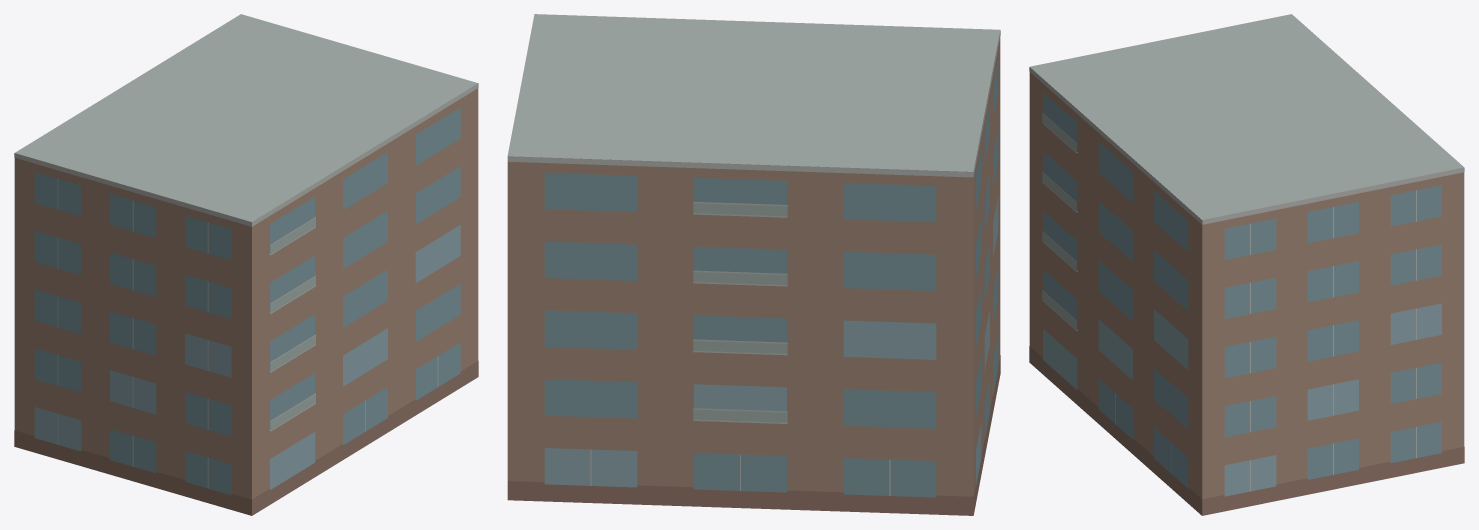
File: residential-abcb2ce1-3c36-45e8-8290-b4b12f356702.glb
3 views of the same model, side by side, from view 1: azimuth 30°, elevation 25°; view 2: azimuth 150°, elevation 25°; view 3: azimuth 270°, elevation 25° (orthographic). The views are drawn at different scales.
Parts seen in each view (by area): view 1: residential-abcb2ce1-3c36-45e8-8290-b4b12f356702.tmp; view 2: residential-abcb2ce1-3c36-45e8-8290-b4b12f356702.tmp; view 3: residential-abcb2ce1-3c36-45e8-8290-b4b12f356702.tmp.
Part boxes in pixels (left/top/right/bottom): residential-abcb2ce1-3c36-45e8-8290-b4b12f356702.tmp: left=14, top=14, right=478, bottom=515; residential-abcb2ce1-3c36-45e8-8290-b4b12f356702.tmp: left=507, top=14, right=1000, bottom=515; residential-abcb2ce1-3c36-45e8-8290-b4b12f356702.tmp: left=1029, top=14, right=1464, bottom=515.
Bounding box in the file's own units: 22.8 × 15.25 × 20.34.
